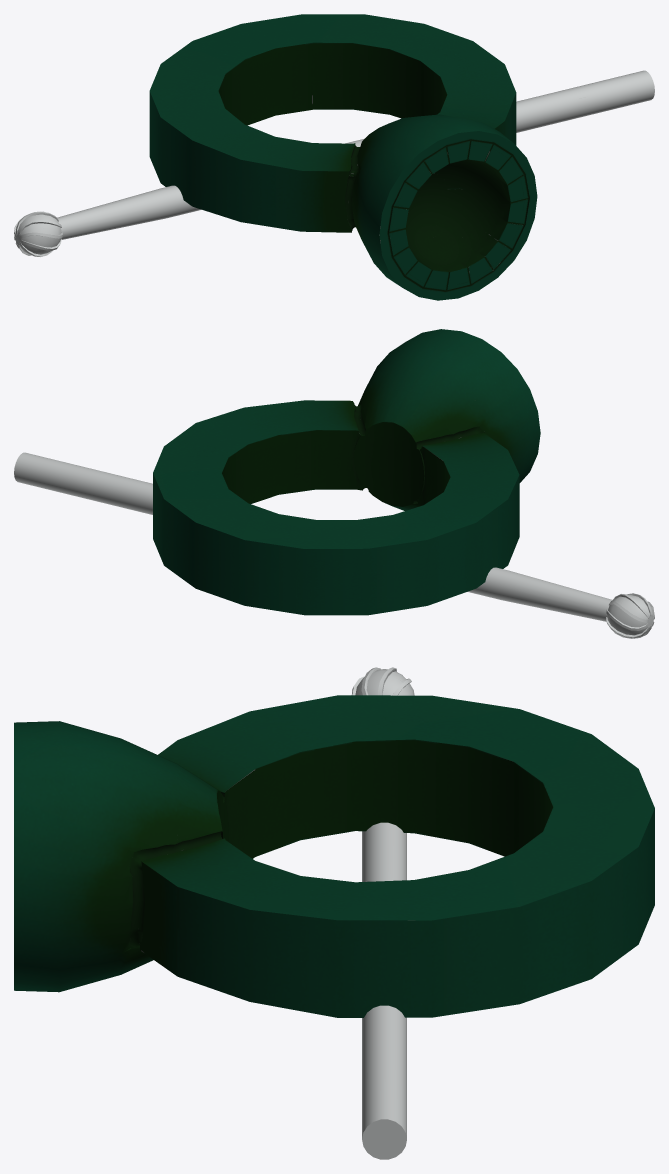
3 views of the same model, one above another, from view 1: azimuth 30°, elevation 25°; view 2: azimuth 150°, elevation 25°; view 3: azimuth 270°, elevation 25° (orthographic). The views are drawn at different scales.
Parts seen in each view (by area): view 1: 212_JieQuan_AoChao_001, 212_DiaoKeZhen_Da, 212_JieQuan_AoChao_002; view 2: 212_JieQuan_AoChao_001, 212_DiaoKeZhen_Da, 212_JieQuan_AoChao_002; view 3: 212_JieQuan_AoChao_001, 212_DiaoKeZhen_Da.
Boxes of the visible parts, x1=… form: 212_JieQuan_AoChao_001: x1=149, y1=14, x2=537, y2=300; 212_DiaoKeZhen_Da: x1=14, y1=70, x2=654, y2=256; 212_JieQuan_AoChao_002: x1=389, y1=141, x2=527, y2=290; 212_JieQuan_AoChao_001: x1=153, y1=329, x2=540, y2=615; 212_DiaoKeZhen_Da: x1=14, y1=452, x2=654, y2=638; 212_JieQuan_AoChao_002: x1=366, y1=422, x2=417, y2=506; 212_JieQuan_AoChao_001: x1=14, y1=695, x2=654, y2=1017; 212_DiaoKeZhen_Da: x1=352, y1=667, x2=414, y2=1159.
Bounding box in the file's own units: 4.76 × 1.21 × 2.85.
Materials: 1 (1 with a texture image).
